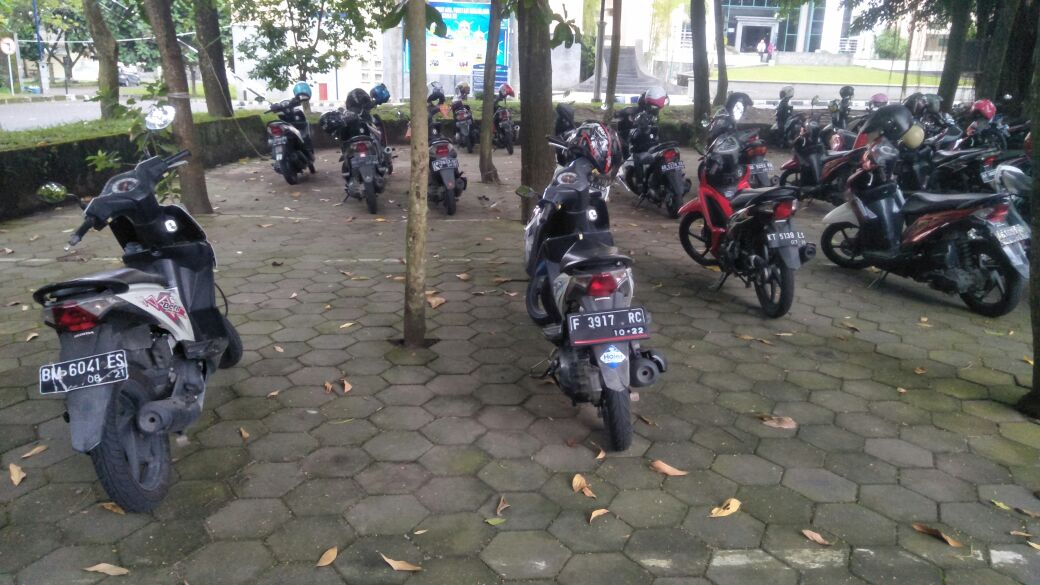plate: (38, 351, 129, 388), (570, 308, 650, 339), (764, 228, 807, 248), (996, 224, 1029, 243), (432, 157, 459, 170), (662, 160, 685, 173)
